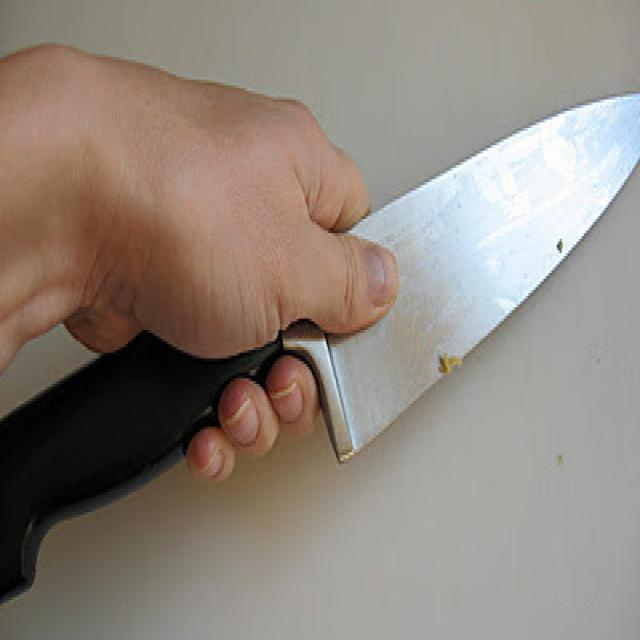knife: (1, 81, 640, 620)
